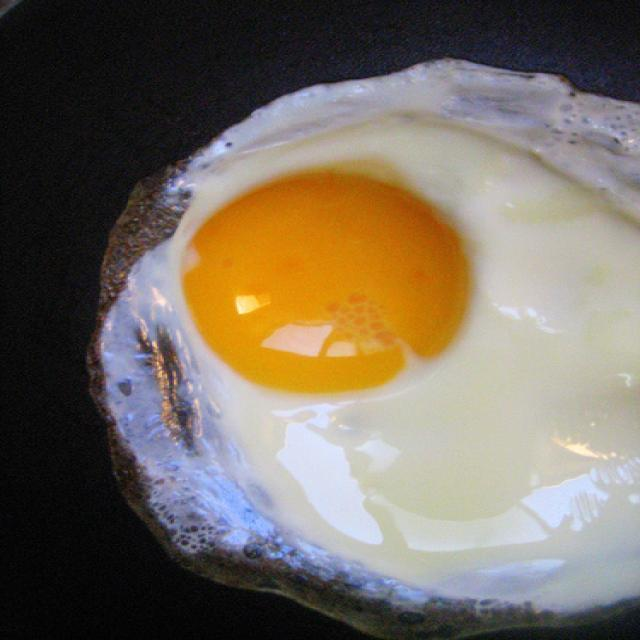Egg: (90, 61, 640, 610)
